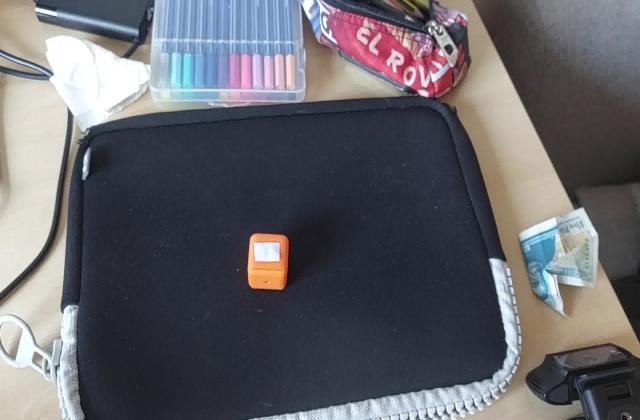sticker: (246, 233, 291, 292)
white: (253, 241, 284, 264)
